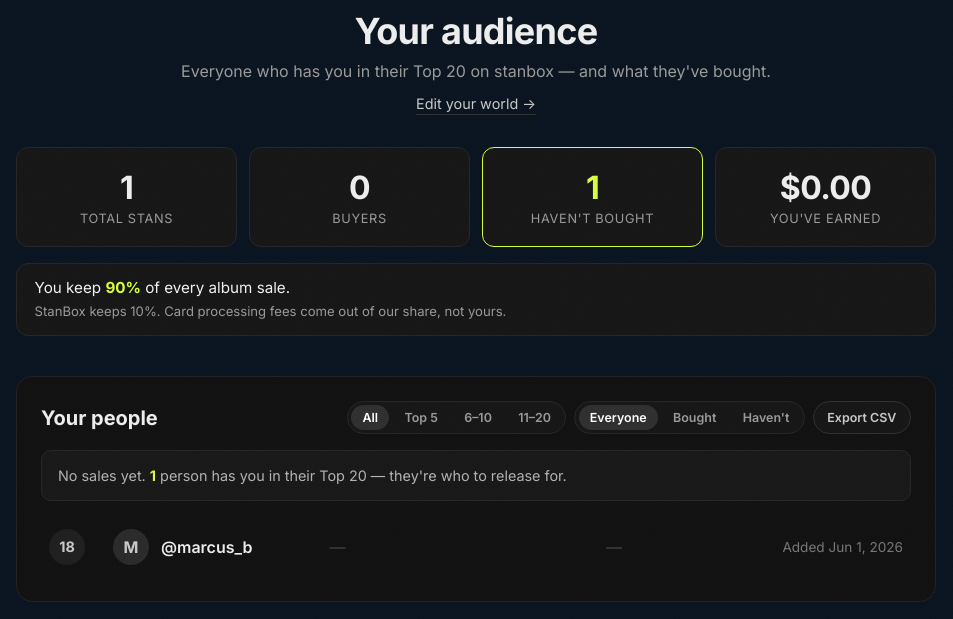
Test: ArtistDashboard › filters › explains an empty filter result
expect the text "@marcus_b" is shown: met, box [161, 537, 252, 557]
Click the button "Top 5" at x=421, y=418, box [393, 405, 449, 430]
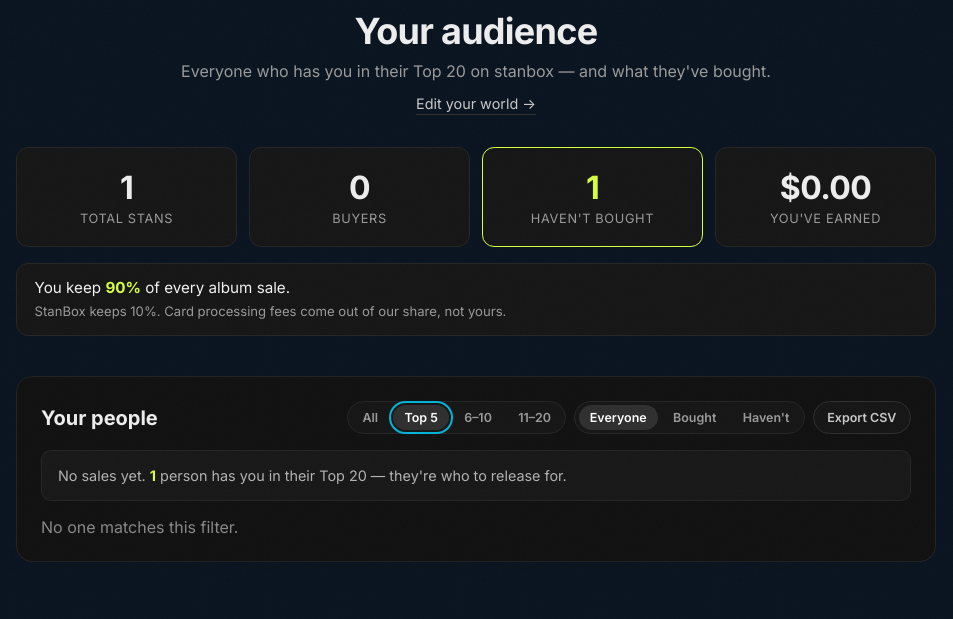
expect the text "No one matches this filter." is shown: met, box [41, 517, 238, 537]
